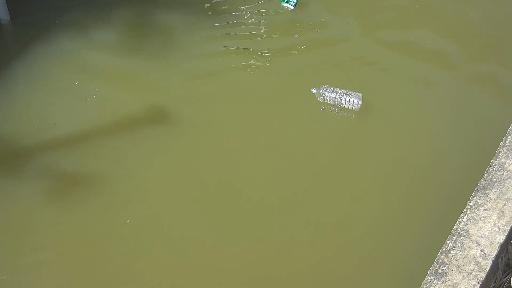plastic: (304, 70, 379, 125), (259, 0, 312, 18)
